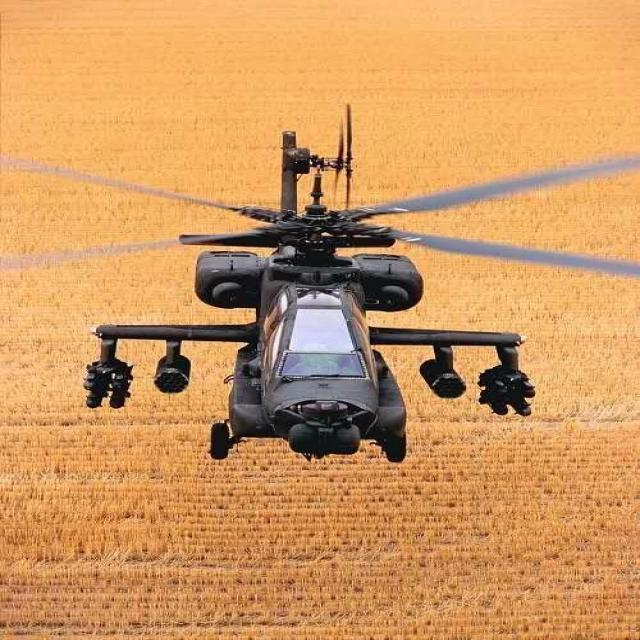MIL_HELO: (0, 99, 640, 468)
